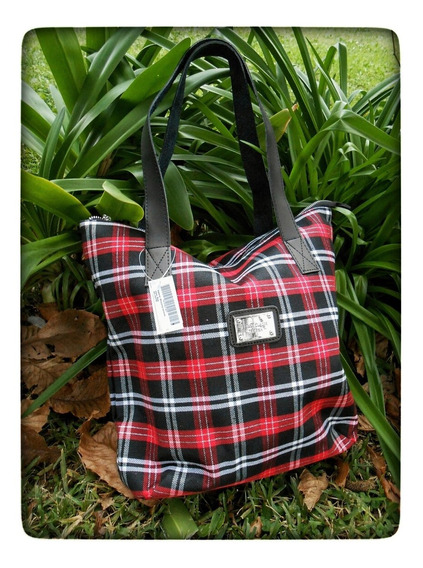cartera: (77, 37, 359, 503)
